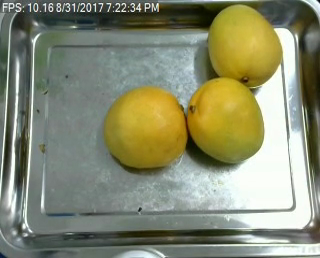Mango: (184, 78, 264, 166), (205, 3, 282, 87), (106, 88, 186, 167)
